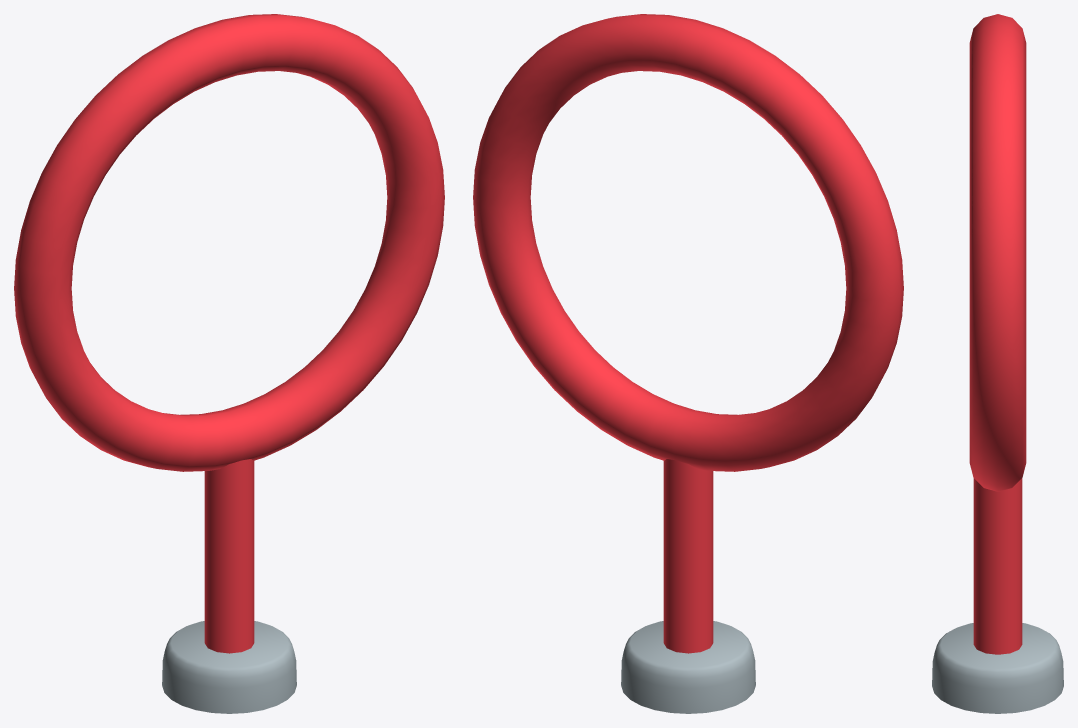
File: ring_teamRed.glb
3 views of the same model, side by side, from view 1: azimuth 30°, elevation 25°; view 2: azimuth 150°, elevation 25°; view 3: azimuth 270°, elevation 25° (orthographic). The views are drawn at different scales.
Visible parts, largest first — view 1: ring_teamRed; view 2: ring_teamRed; view 3: ring_teamRed.
Part boxes in pixels (<box>): ring_teamRed: <box>14,14,444,713</box>; ring_teamRed: <box>473,14,903,713</box>; ring_teamRed: <box>932,14,1063,713</box>.
Size of the model in its own units: 0.6005 by 0.9002 by 0.1657.
